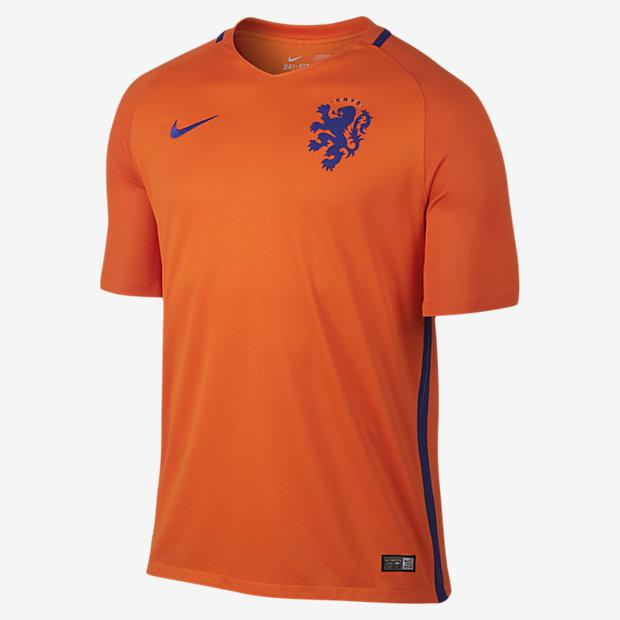teeshirt: (75, 14, 531, 613)
